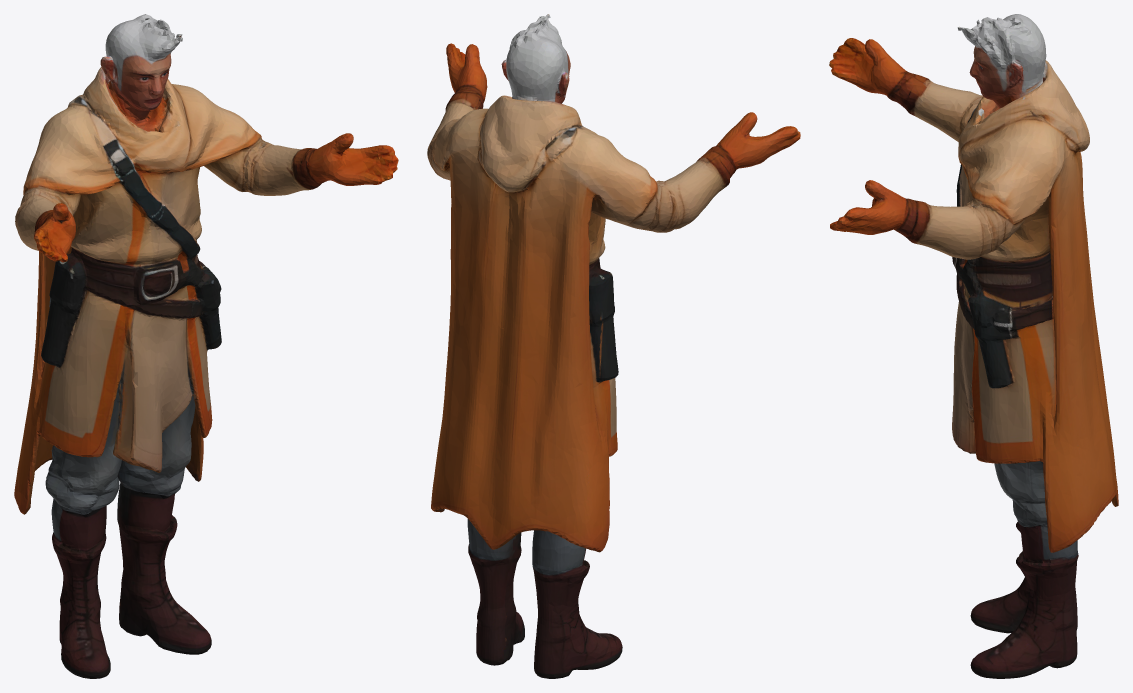
Rendered from wick.glb.
3 renders of one model, left to right at view 1: azimuth 30°, elevation 25°; view 2: azimuth 150°, elevation 25°; view 3: azimuth 270°, elevation 25°, orthographic. The views are drawn at different scales.
Visible parts, largest first — view 1: textured_mesh.obj; view 2: textured_mesh.obj; view 3: textured_mesh.obj.
Boxes of the visible parts, left/top/right/bottom form: textured_mesh.obj: left=14, top=14, right=398, bottom=678; textured_mesh.obj: left=427, top=14, right=800, bottom=678; textured_mesh.obj: left=829, top=14, right=1118, bottom=678.
Size of the model in its own units: 1.18 by 1.99 by 0.8146.
1 material, 1 textured.
